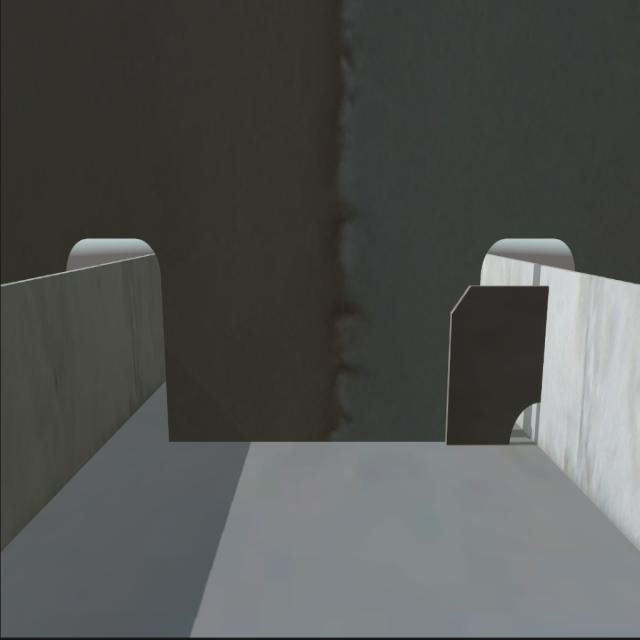fillet_hole: (508, 404, 540, 446)
fillet_yong_jeop_jang: (163, 430, 515, 456)
longi_yong_jeop_jang: (536, 274, 553, 404)
plate_CP03: (448, 281, 548, 450)
